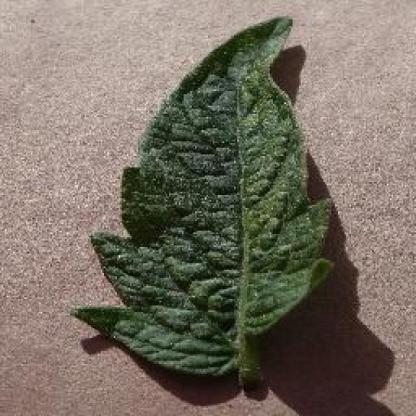Tomato_Spider_Mites: (74, 17, 333, 372)
